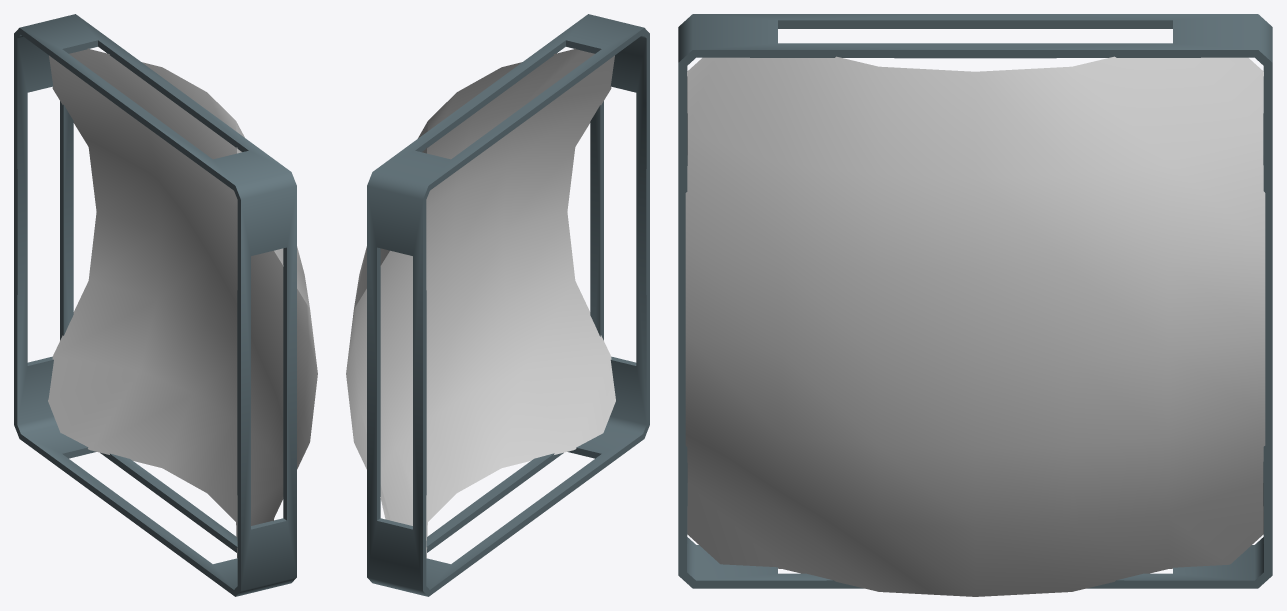
Rendered from fant_sail_frame_7x7.fbx.
3 views of the same model, side by side, from view 1: azimuth 30°, elevation 25°; view 2: azimuth 150°, elevation 25°; view 3: azimuth 270°, elevation 25° (orthographic). The views are drawn at different scales.
Parts seen in each view (by area): view 1: fant_sail_frame_7x7; view 2: fant_sail_frame_7x7; view 3: fant_sail_frame_7x7.
Boxes of the visible parts, <box> form: fant_sail_frame_7x7: <box>14,14,317,596</box>; fant_sail_frame_7x7: <box>346,14,649,596</box>; fant_sail_frame_7x7: <box>678,14,1272,596</box>.
Bounding box in the file's own units: 223 × 700 × 700.
